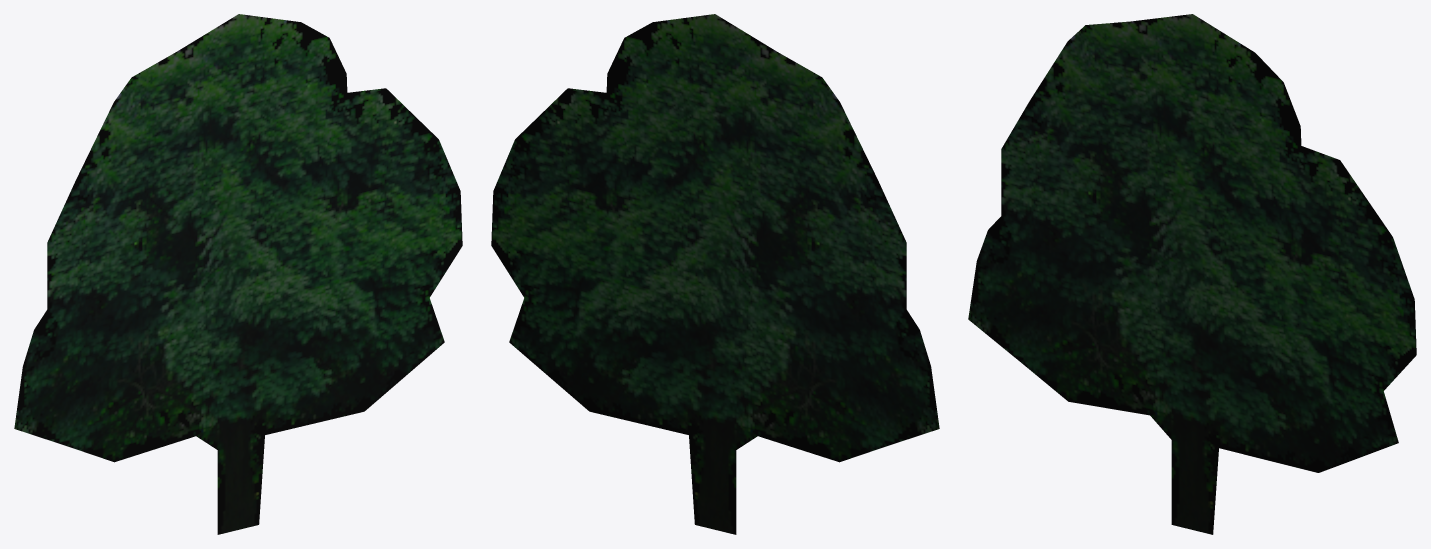
The model's file is FlatTree02_notrans.glb.
3 views of the same model, side by side, from view 1: azimuth 30°, elevation 25°; view 2: azimuth 150°, elevation 25°; view 3: azimuth 330°, elevation 25° (orthographic).
Visible parts, largest first — view 1: Plane; view 2: Plane; view 3: Plane.
Part boxes in pixels (x1,y1,x2,y2): Plane: [14, 14, 462, 534]; Plane: [491, 14, 939, 534]; Plane: [968, 14, 1416, 534].
Size of the model in its own units: 10.76 by 11.83 by 1.15e-06.
1 material, 1 textured.
